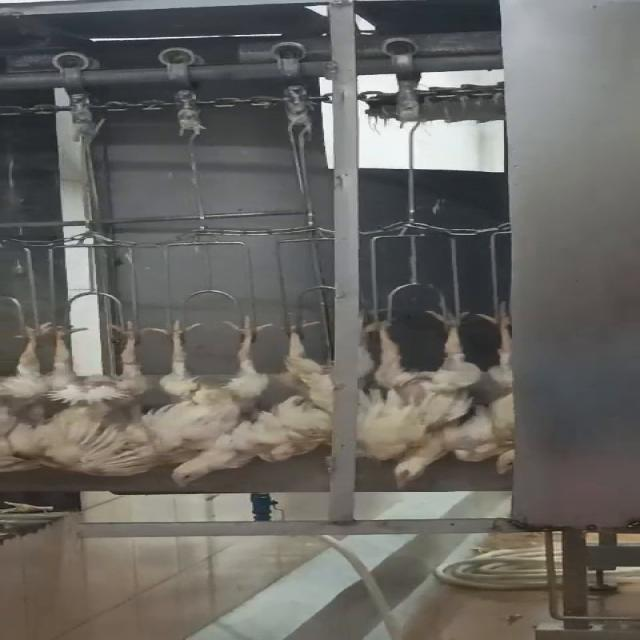chicken: (146, 310, 277, 491), (357, 295, 475, 493), (43, 325, 160, 480), (263, 301, 331, 466), (474, 298, 522, 478), (0, 321, 53, 479)
